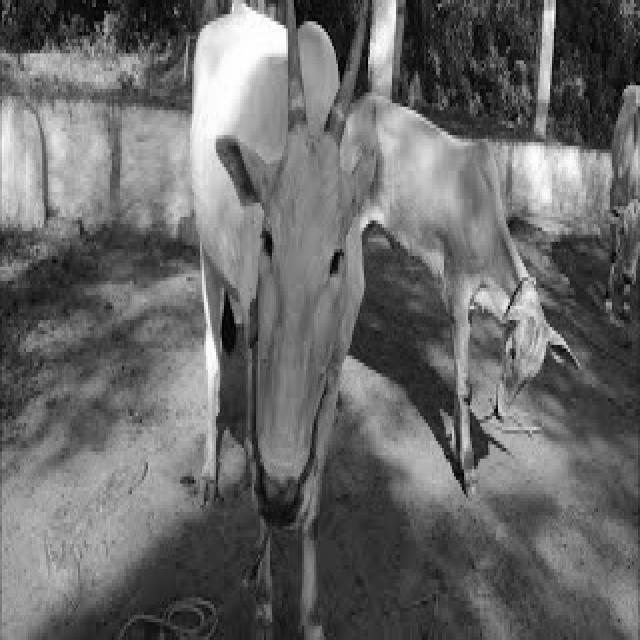Cow: (190, 34, 414, 640)
